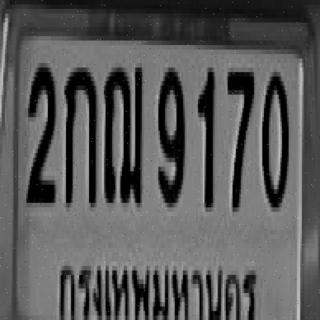A01: (63, 63, 96, 203)
A12: (102, 63, 142, 203)
N00: (260, 68, 287, 208)
N01: (196, 63, 213, 203)
N02: (24, 61, 54, 201)
N07: (226, 68, 252, 208)
N09: (157, 63, 183, 203)
P04: (56, 247, 261, 320)
